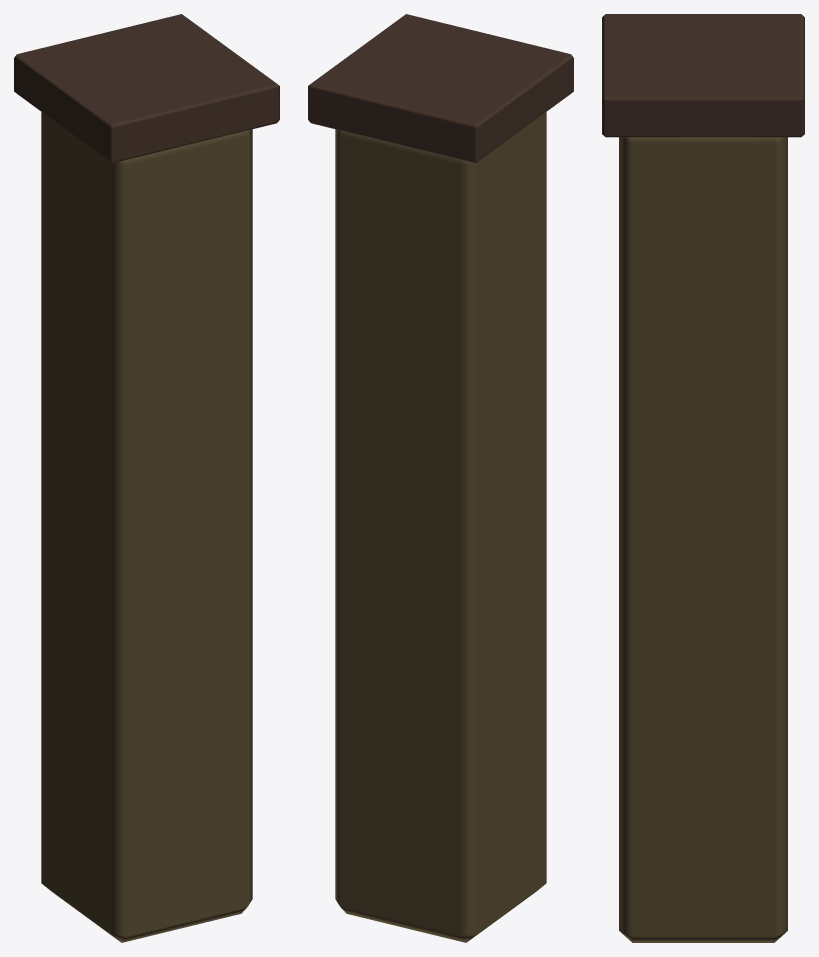
File: village-roof-chimney.5da2af5d.glb
3 views of the same model, side by side, from view 1: azimuth 30°, elevation 25°; view 2: azimuth 150°, elevation 25°; view 3: azimuth 270°, elevation 25° (orthographic). The views are drawn at different scales.
Parts seen in each view (by area): view 1: body; view 2: body; view 3: body.
Part boxes in pixels (x1,y1,x2,y2): body: [14, 14, 279, 942]; body: [308, 14, 573, 942]; body: [602, 14, 804, 942].
Bounding box in the file's own units: 0.36 × 1.68 × 0.36.
